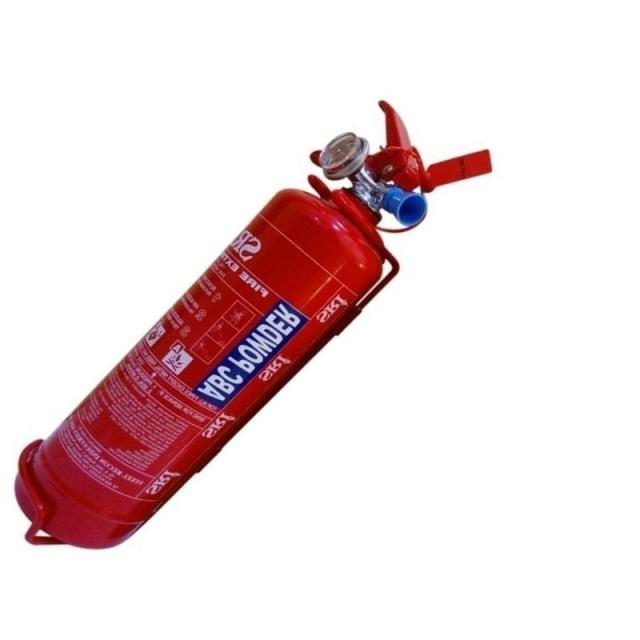fire_extinguisher: (9, 94, 495, 553)
